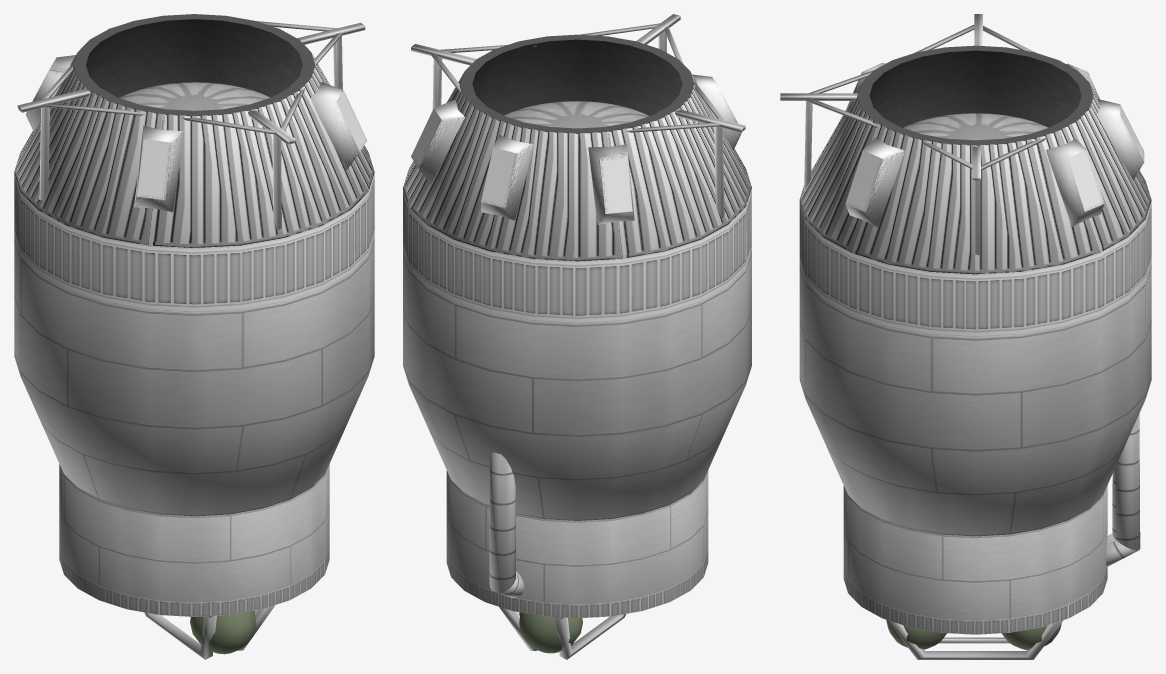
Rendered from CENTAUR_G_Prime.obj.
3 views of the same model, side by side, from view 1: azimuth 30°, elevation 25°; view 2: azimuth 150°, elevation 25°; view 3: azimuth 270°, elevation 25° (orthographic). The views are drawn at different scales.
Parts seen in each view (by area): view 1: Cylinder2_Cylinder2_auv, Cylinder2_Cube2_auv; view 2: Cylinder2_Cylinder2_auv, Cylinder2_Cube2_auv; view 3: Cylinder2_Cylinder2_auv, Cylinder2_Cube2_auv.
Part boxes in pixels (left/top/right/bottom): Cylinder2_Cylinder2_auv: left=14, top=14, right=374, bottom=659; Cylinder2_Cube2_auv: left=17, top=21, right=365, bottom=230; Cylinder2_Cylinder2_auv: left=403, top=34, right=751, bottom=659; Cylinder2_Cube2_auv: left=411, top=14, right=745, bottom=218; Cylinder2_Cylinder2_auv: left=799, top=45, right=1151, bottom=659; Cylinder2_Cube2_auv: left=780, top=14, right=1047, bottom=255.
Bounding box in the file's own units: 4.39 × 6.96 × 4.22.
